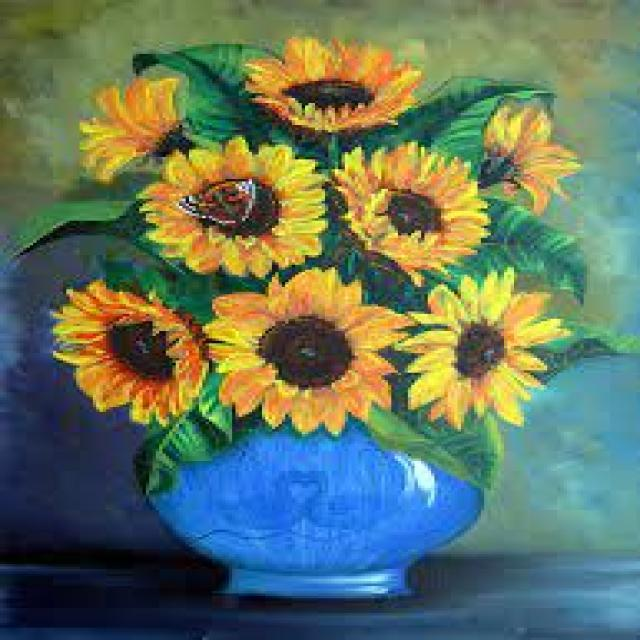sunflower: (202, 268, 408, 434), (393, 267, 570, 432), (136, 135, 328, 277), (46, 277, 209, 426), (328, 140, 491, 274), (244, 35, 422, 135), (76, 78, 192, 184), (470, 104, 580, 213)
